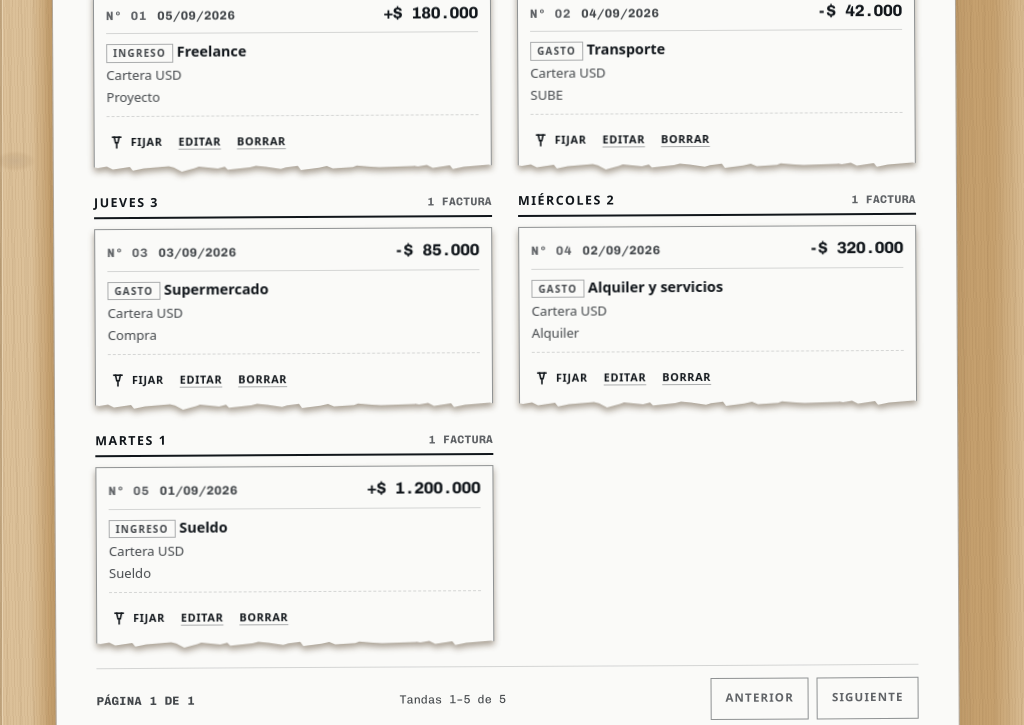
Test: App mutations › deletes a movement after confirmation and refreshes the KPIs
(page scrolled)
Click the button with aria-label "Borrar movimiento: Supermercado". click: (263, 379)
box: [236,362,289,396]
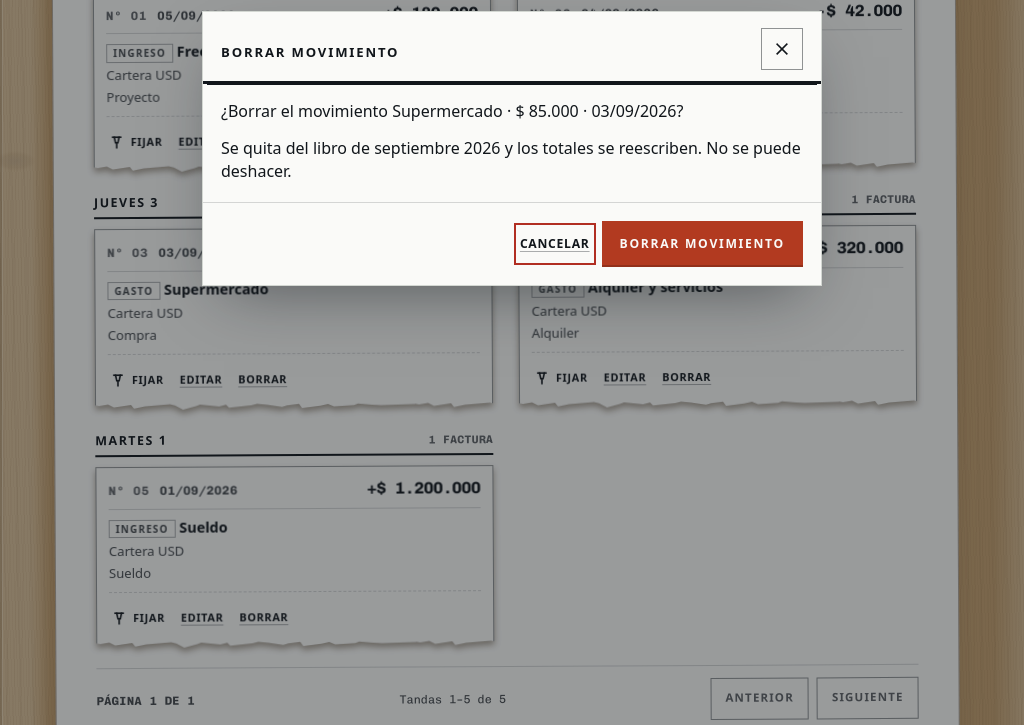
Click the button "Borrar movimiento". click: (702, 244)
box: [602,221,803,267]
(page scrolled)
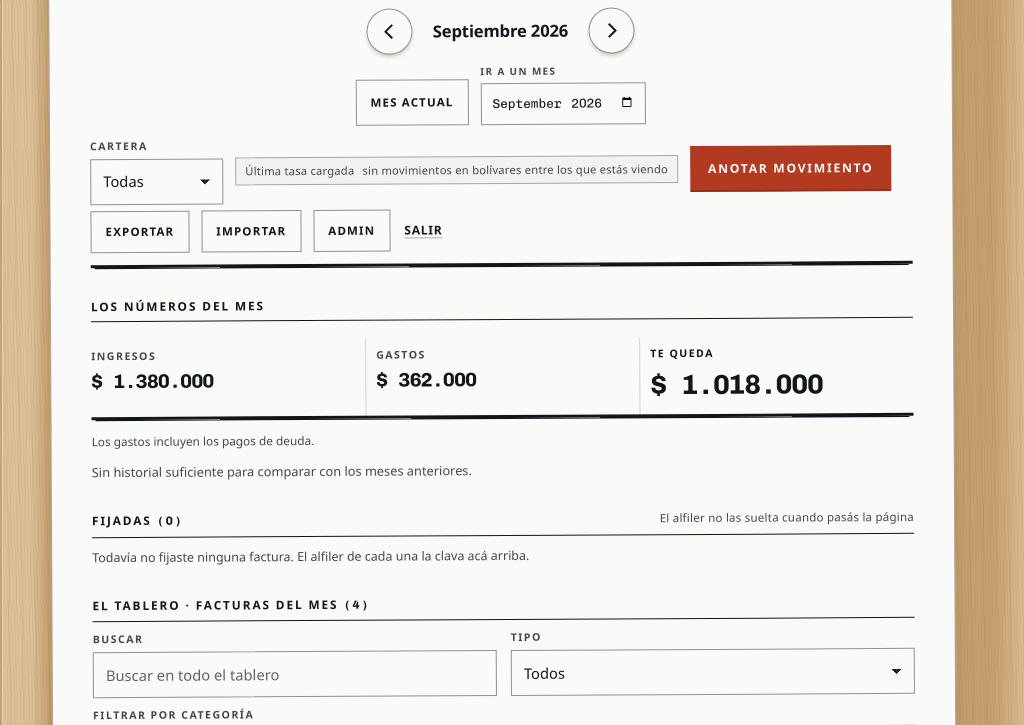
Result: the text "-$ 85.000" is gone
